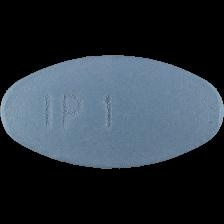10544-128: (0, 0, 224, 224)
